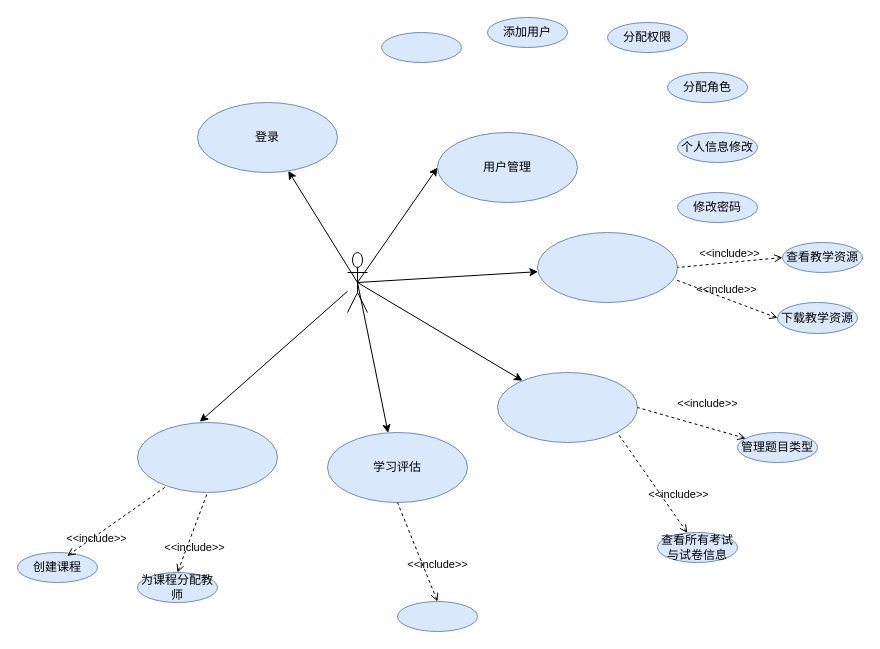
This 880x649 diagram has some shape labels left out. The centre of each missing label's shape, as x and y in pixels:
作业考试管理: [567,407]
教学资源管理: [607,267]
生成评估报告: [437,616]
系统管理员: [357,282]
课程管理: [207,457]
重置用户密码: [421,47]
